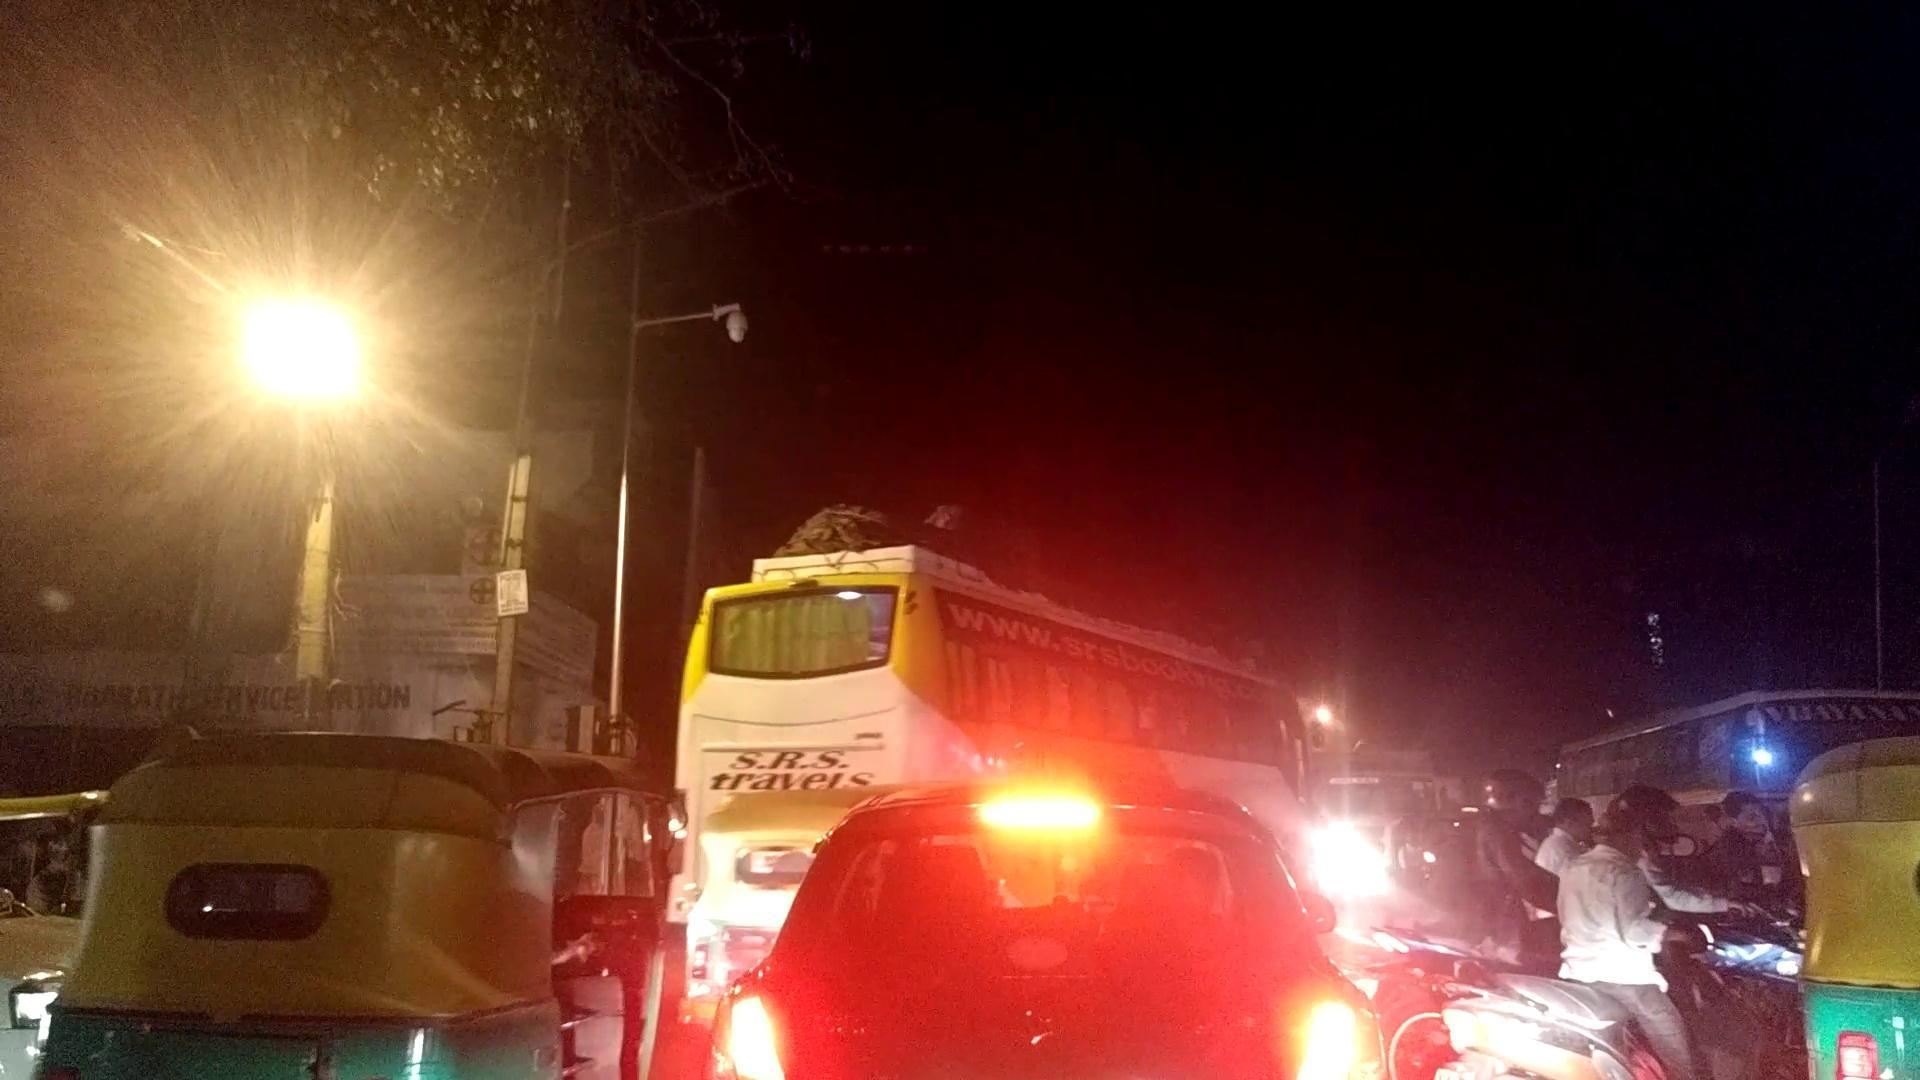on: (40, 42, 583, 715)
